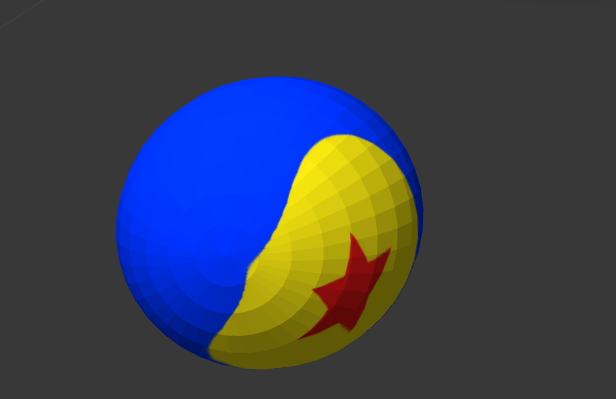toy story ball: (119, 76, 424, 369)
